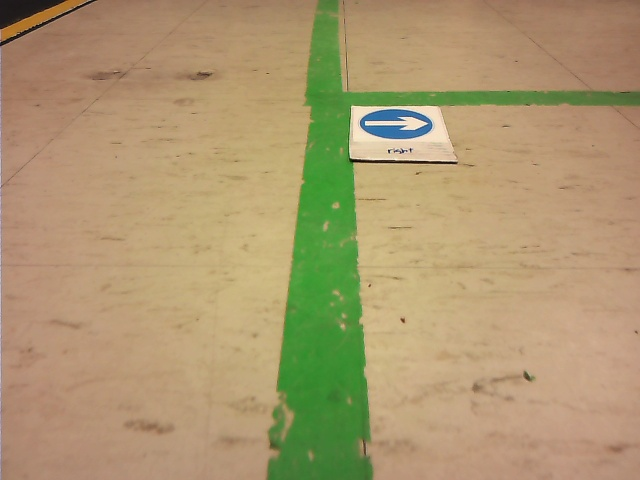TURN RIGHT: (359, 109, 433, 139)
